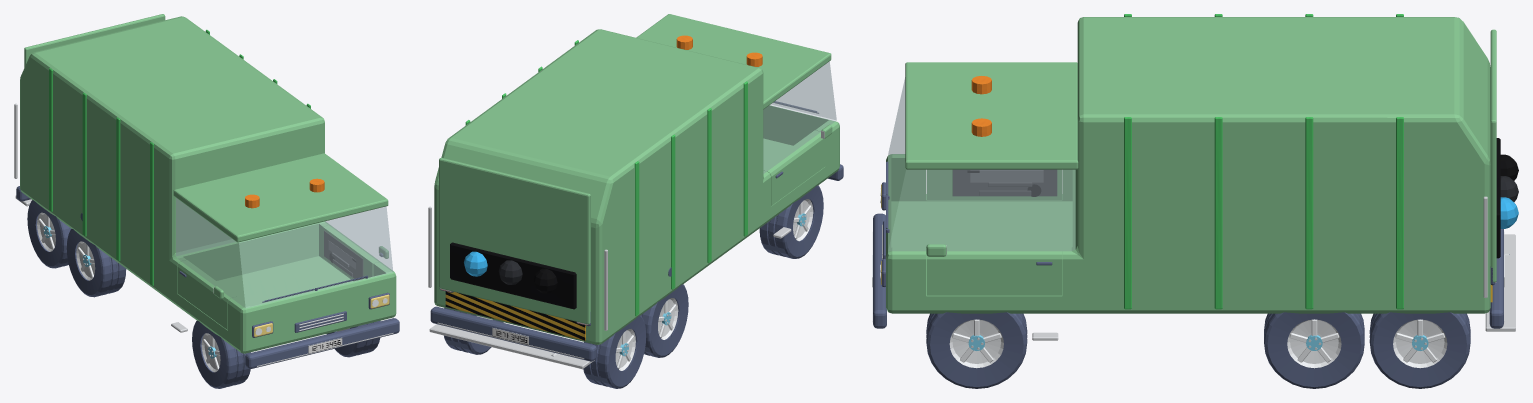
The model's file is V07_garbage_truck_v2.glb.
3 renders of one model, left to right at view 1: azimuth 30°, elevation 25°; view 2: azimuth 150°, elevation 25°; view 3: azimuth 270°, elevation 25°, orthographic. The views are drawn at different scales.
Visible parts, largest first — view 1: Body, Glass, TruckDetails, Wheel_RR, Wheel_FR, Bumper_Front, Wheel_RR2, Door_R, Trunk, DoorDetail_L, Door_L, Wheel_FL (+1 smaller); view 2: Body, Trunk, TruckDetails, Glass, Wheel_FR, Wheel_RR2, Bumper_Rear, Door_R, Wheel_RR, Wheel_RL2; view 3: Body, Glass, TruckDetails, Wheel_FL, Wheel_RL2, Wheel_RL, Door_L, DoorDetail_R, Trunk, Door_R, Bumper_Front, Bumper_Rear.
Boxes of the visible parts, bbox=[...] form: Body: bbox=[20, 16, 396, 353]; Glass: bbox=[176, 198, 393, 308]; TruckDetails: bbox=[14, 29, 324, 332]; Wheel_RR: bbox=[66, 229, 126, 297]; Wheel_FR: bbox=[192, 320, 250, 388]; Bumper_Front: bbox=[245, 318, 399, 368]; Wheel_RR2: bbox=[27, 200, 71, 268]; Door_R: bbox=[177, 260, 236, 329]; Trunk: bbox=[24, 14, 165, 67]; DoorDetail_L: bbox=[324, 231, 363, 280]; Door_L: bbox=[322, 225, 379, 280]; Wheel_FL: bbox=[327, 320, 380, 357]; Body: bbox=[434, 14, 839, 344]; Trunk: bbox=[439, 157, 590, 324]; TruckDetails: bbox=[428, 35, 791, 369]; Glass: bbox=[763, 61, 836, 173]; Wheel_FR: bbox=[759, 185, 823, 258]; Wheel_RR2: bbox=[583, 315, 646, 388]; Bumper_Rear: bbox=[430, 306, 596, 361]; Door_R: bbox=[763, 130, 825, 205]; Wheel_RR: bbox=[641, 284, 688, 357]; Wheel_RL2: bbox=[444, 308, 503, 354]; Body: bbox=[886, 17, 1490, 313]; Glass: bbox=[888, 77, 1075, 250]; TruckDetails: bbox=[971, 14, 1518, 340]; Wheel_FL: bbox=[926, 312, 1027, 388]; Wheel_RL2: bbox=[1369, 312, 1470, 388]; Wheel_RL: bbox=[1264, 312, 1364, 388]; Door_L: bbox=[927, 247, 1061, 295]; DoorDetail_R: bbox=[952, 169, 1057, 196]; Trunk: bbox=[1490, 29, 1496, 282]; Door_R: bbox=[927, 169, 1061, 199]; Bumper_Front: bbox=[872, 213, 886, 328]; Bumper_Rear: bbox=[1489, 229, 1504, 328].
Bounding box in the file's own units: 2.64 × 3 × 6.42.
Materials: 12 (1 with a texture image).
